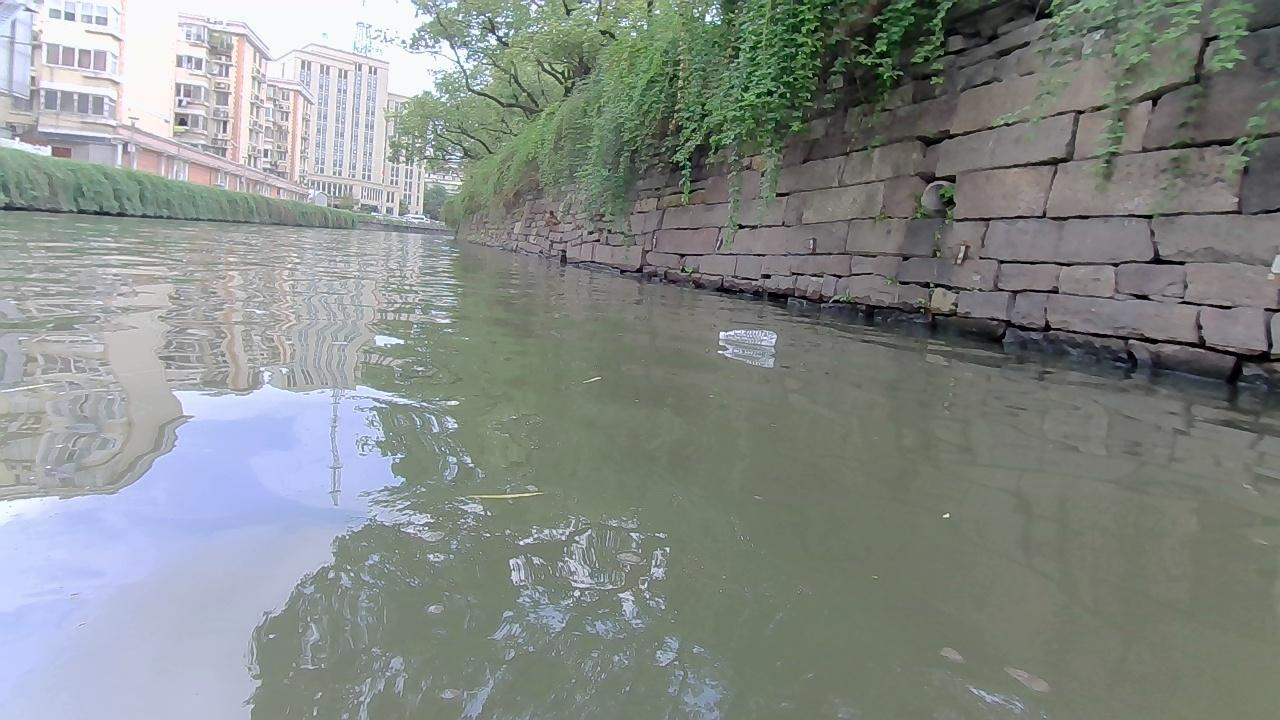bottle: (717, 327, 776, 346)
